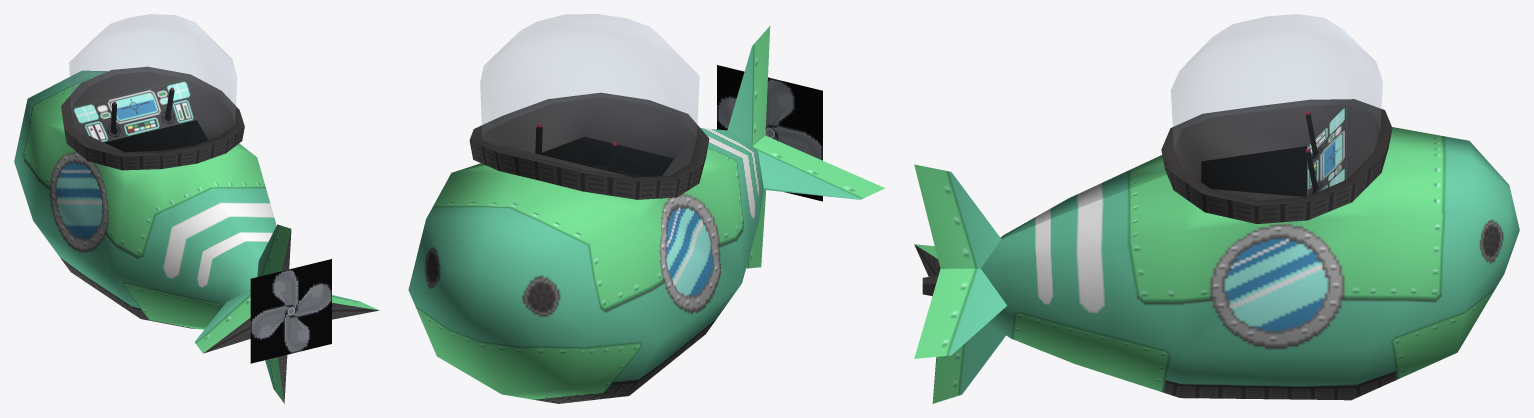
File: Submarine Model.fbx
3 views of the same model, side by side, from view 1: azimuth 30°, elevation 25°; view 2: azimuth 150°, elevation 25°; view 3: azimuth 270°, elevation 25° (orthographic). The views are drawn at different scales.
Visible parts, largest first — view 1: submarine body, glass.001, propeller; view 2: submarine body, glass.001, propeller; view 3: submarine body, glass.001.
Boxes of the visible parts, x1,y1,x2,y2 form: submarine body: [14, 66, 379, 403]; glass.001: [69, 14, 236, 151]; propeller: [250, 259, 331, 363]; submarine body: [408, 26, 884, 403]; glass.001: [480, 14, 699, 176]; propeller: [717, 65, 822, 201]; submarine body: [914, 99, 1519, 403]; glass.001: [1171, 14, 1382, 199].
Bounding box in the file's own units: 1.87 × 4.17 × 2.84.
